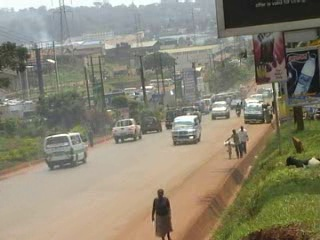Car: (163, 105, 189, 130), (207, 98, 234, 122), (137, 114, 163, 135), (182, 101, 203, 122), (193, 95, 211, 115), (228, 95, 244, 109)
Motorcycle: (233, 101, 243, 119)
